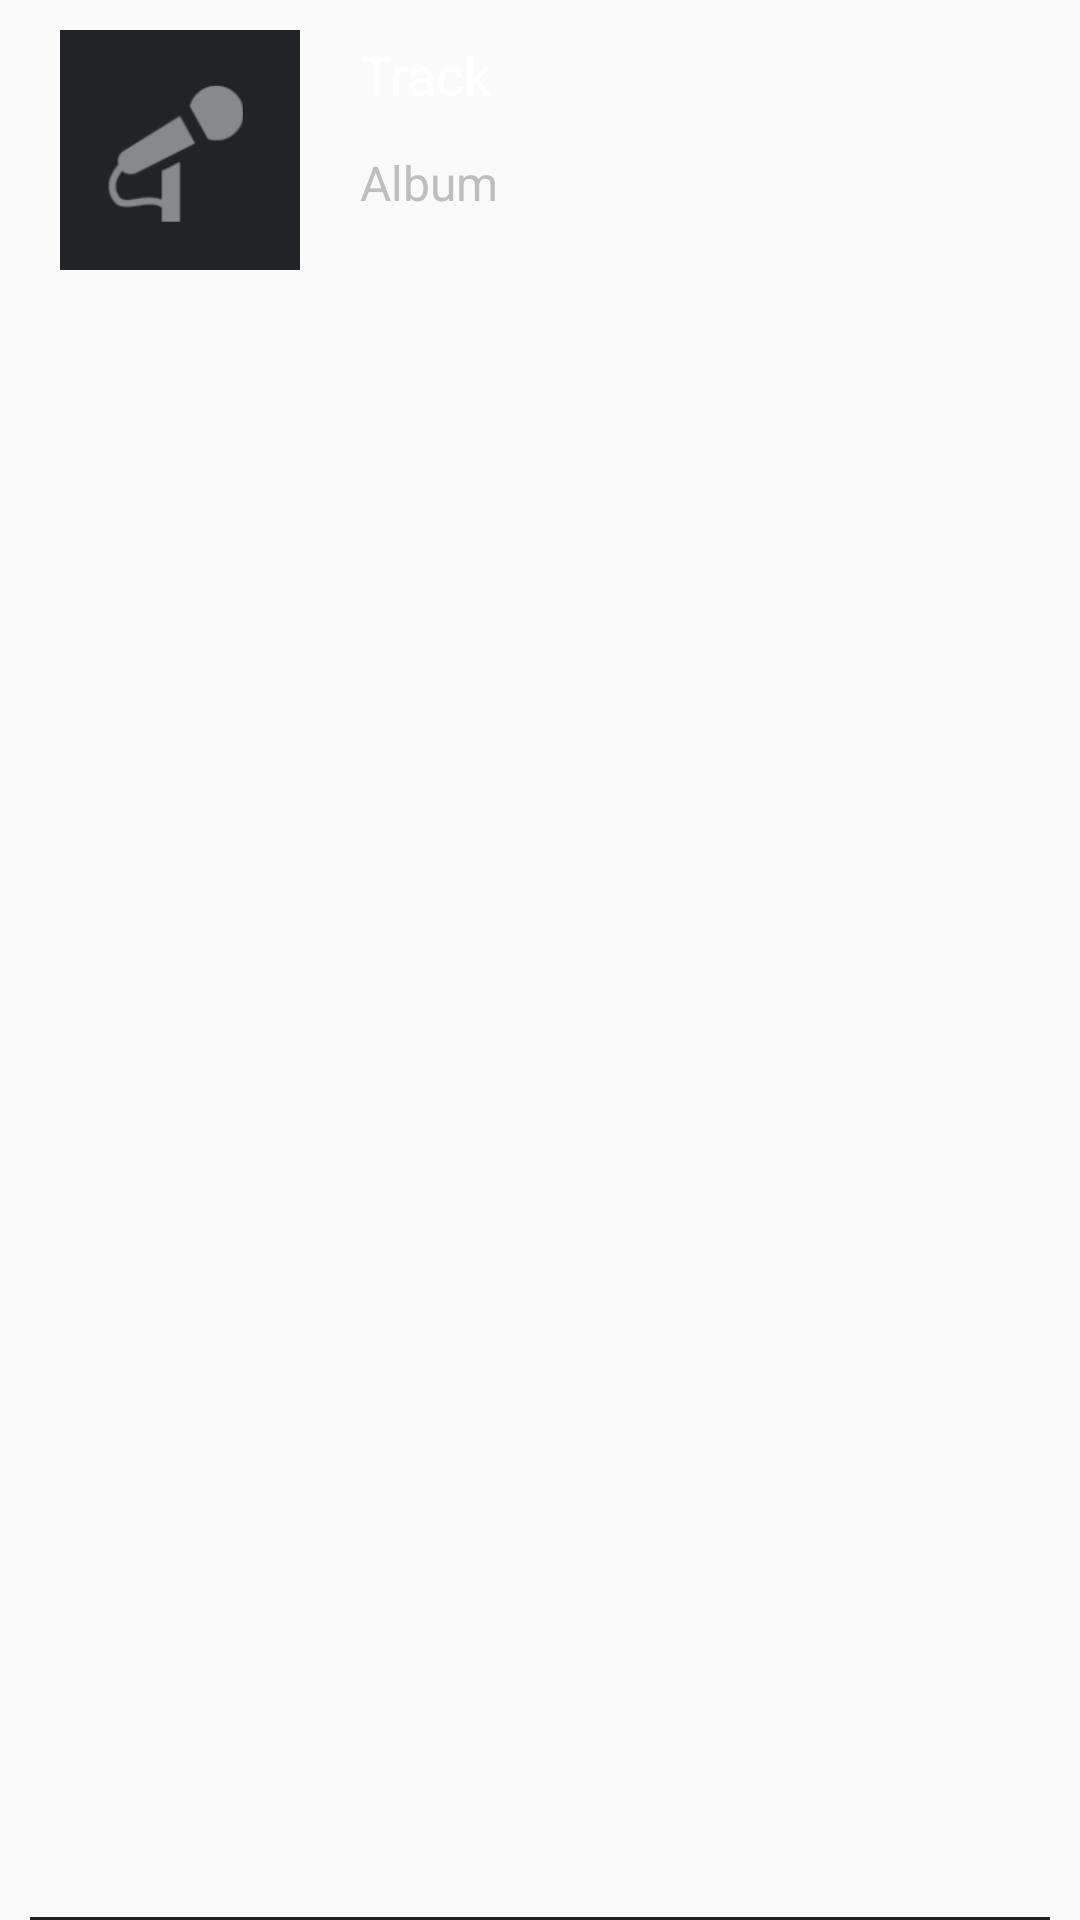

Point at icon controls on the screen. Image size 1080 x 1920, points as [x,y].
artist: [180,150]
